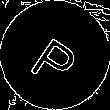P_NE: (26, 24, 84, 86)
